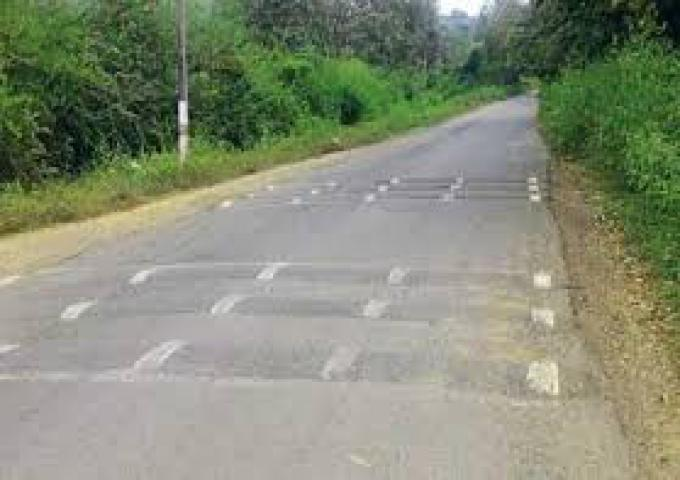speedbreaker: (4, 249, 582, 392), (249, 171, 548, 208)
